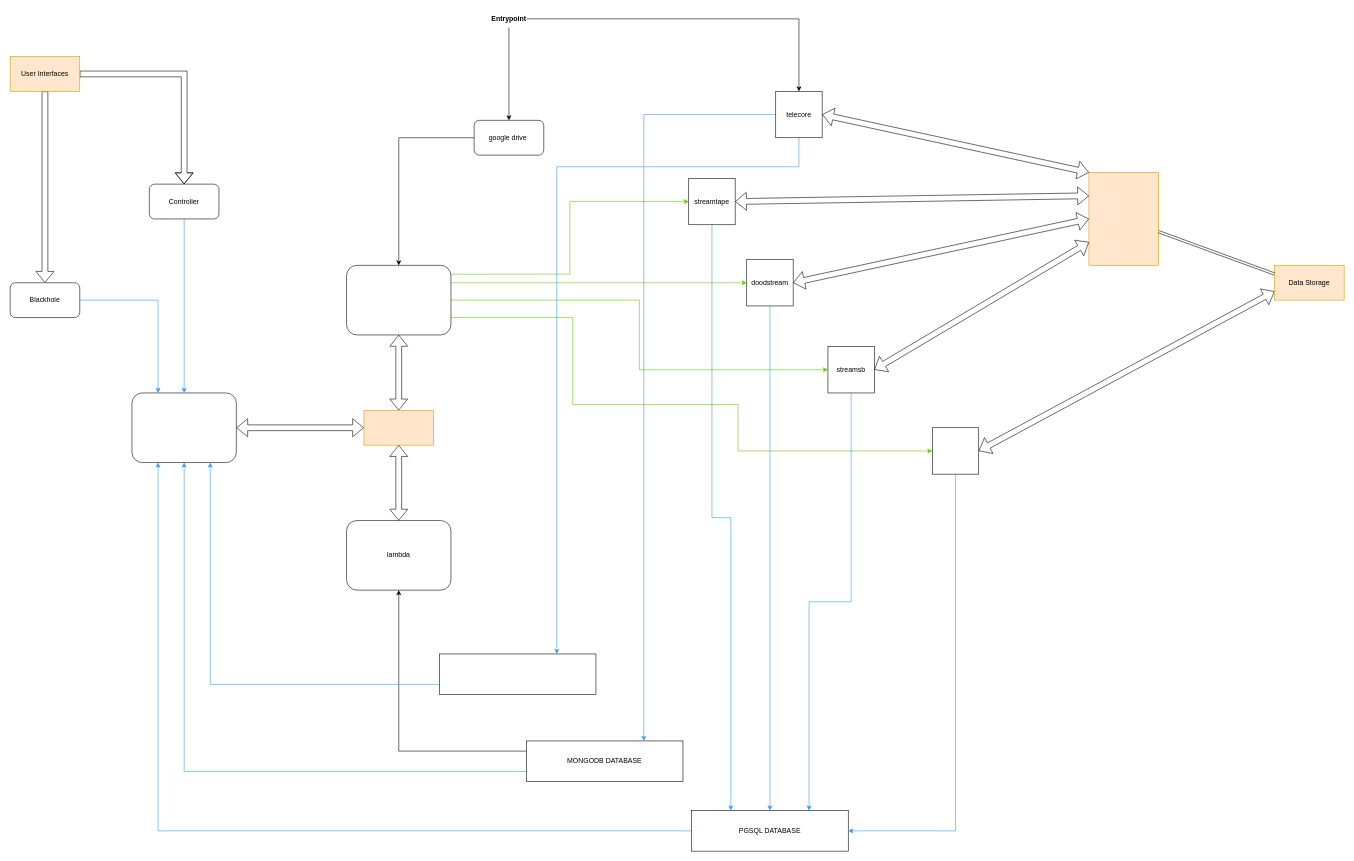
Image size: 1354x861. Some labels were removed from this diagram. Here are the shapes that lost their labels. From the top down, the centre of each, then its label:
At (x=1123, y=218): "Content Delivery".
At (x=398, y=300): "github actions".
At (x=183, y=427): "EC2".
At (x=398, y=427): "compute".
At (x=955, y=450): "Github".
At (x=517, y=674): "REDIS DATABASE".
